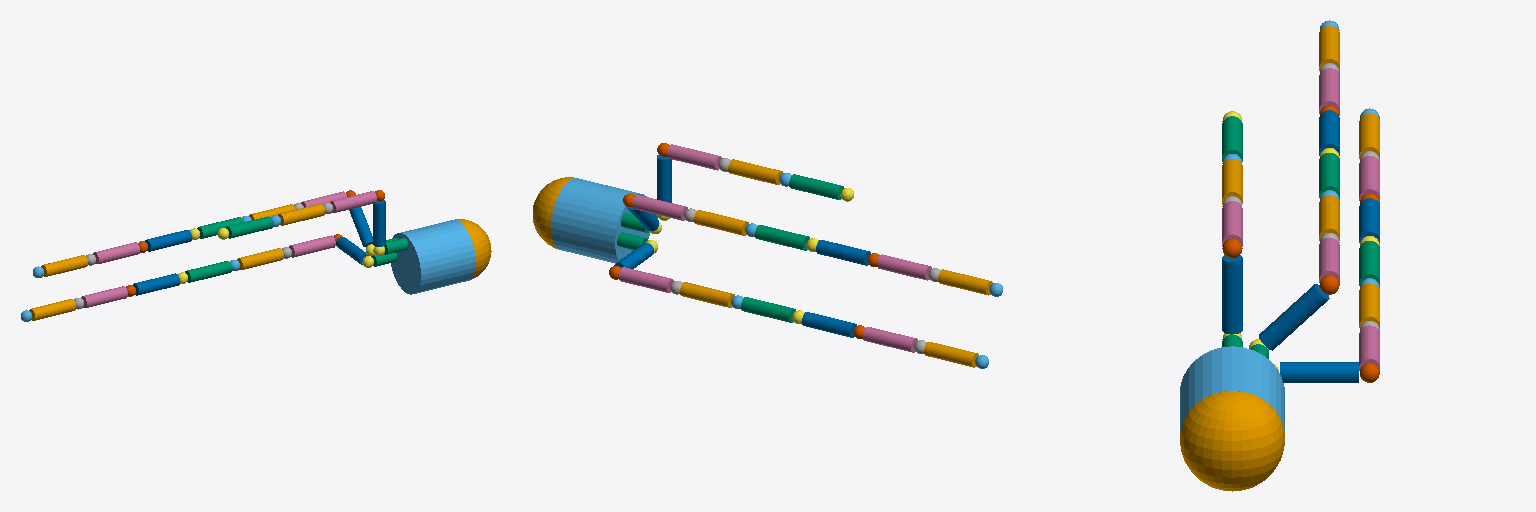
--- Render facts (derived) ---
The picture shows the robot from 3 angles, left to right: view 1: azimuth 30°, elevation 25°; view 2: azimuth 150°, elevation 25°; view 3: azimuth 270°, elevation 25°; orthographic projection.
Model sentinel/octopus_3_arms_3_segments with 44 links and 43 joints (15 revolute, 28 fixed), rooted at eye, posed all joints at 0.
Visible links, largest first — view 1: head, eye, branch_20_cylinder, branch_04_cylinder, branch_14_cylinder, branch_15_cylinder, branch_23_cylinder, branch_02_cylinder, branch_06_cylinder, branch_22_cylinder, branch_01_cylinder, branch_03_cylinder (+3 smaller); view 2: head, eye, branch_23_cylinder, branch_03_cylinder, branch_12_cylinder, branch_13_cylinder, branch_15_cylinder, branch_16_cylinder, branch_04_cylinder, branch_05_cylinder, branch_14_cylinder, branch_06_cylinder (+6 smaller); view 3: eye, head, branch_10_cylinder, branch_00_cylinder, branch_20_cylinder, branch_12_cylinder, branch_02_cylinder, branch_13_cylinder, branch_14_cylinder, branch_04_cylinder, branch_15_cylinder, branch_21_cylinder (+8 smaller).
Link boxes in pixels (x1,y1,x2,y2): head: (391,220,475,294); eye: (455,219,491,280); branch_20_cylinder: (373,200,385,246); branch_04_cylinder: (133,273,179,295); branch_14_cylinder: (145,230,191,251); branch_15_cylinder: (93,242,139,263); branch_23_cylinder: (226,216,272,238); branch_02_cylinder: (237,248,283,269); branch_06_cylinder: (29,299,75,320); branch_22_cylinder: (278,204,324,225); branch_01_cylinder: (289,235,335,257); branch_03_cylinder: (185,261,231,282); head: (551,178,649,263); eye: (533,177,573,249); branch_23_cylinder: (789,174,843,199); branch_03_cylinder: (741,297,795,322); branch_12_cylinder: (694,210,748,235); branch_13_cylinder: (755,225,809,250); branch_15_cylinder: (877,254,931,280); branch_16_cylinder: (938,269,993,295); branch_04_cylinder: (802,312,856,337); branch_05_cylinder: (863,327,917,352); branch_14_cylinder: (816,240,870,265); branch_06_cylinder: (924,342,978,367); eye: (1180,391,1284,491); head: (1180,346,1284,431); branch_10_cylinder: (1259,284,1329,350); branch_00_cylinder: (1280,362,1358,382); branch_20_cylinder: (1222,255,1242,333); branch_12_cylinder: (1319,195,1339,240); branch_02_cylinder: (1359,283,1379,327); branch_13_cylinder: (1319,153,1339,198); branch_14_cylinder: (1319,110,1339,155); branch_04_cylinder: (1359,198,1379,242); branch_15_cylinder: (1319,68,1339,113); branch_21_cylinder: (1222,201,1242,246).
Size in the robot's own frame: 1.55 by 0.38 by 0.3801 metres.
Geometry: primitives only (box / cylinder / sphere), no mesh files.

robot.urdf — sentinel/octopus_3_arms_3_segments:
<?xml version="1.0"?>
<robot name="sentinel/octopus_3_arms_3_segments">
<link name="eye">
  <inertial>
   <mass value="1"/>
   <inertia ixx="0.004000000000000001" ixy="0" ixz="0" iyy="0.004000000000000001" iyz="0" izz="0.004000000000000001"/>
  </inertial>
  <collision>
    <origin rpy="0 0 0" xyz="0 0 0"/>
    <geometry>
      <sphere radius="0.1"/>
    </geometry>
  </collision>
  <visual>
    <origin rpy="0 0 0" xyz="0 0 0"/>
    <geometry>
      <sphere radius="0.1"/>
    </geometry>
  </visual>
</link>

 <link name="head">
  <inertial>
    <mass value="1"/>
    <inertia ixx="0.0058333333333333345" ixy="0" ixz="0" iyy="0.0058333333333333345" iyz="0" izz="0.0025000000000000005"/>
  </inertial>
  <visual>
    <origin rpy="0 1.57 0" xyz="-0.1 0 0"/>
    <geometry>
      <cylinder length="0.2" radius="0.1"/>
    </geometry>
  </visual>
  <collision>
    <origin rpy="0 1.57 0" xyz="-0.1 0 0"/>
    <geometry>
      <cylinder length="0.2" radius="0.1"/>
    </geometry>
  </collision>
 </link>

<joint name="joint_fixed_eye_head" type="fixed">
  <origin rpy="0 0 0" xyz="0 0 0"/>
  <parent link="eye"/>
  <child link="head"/>
</joint>

<!--############################################################################
branch_00
##############################################################################-->
 <link name="branch_00_cylinder_stub">
  <inertial>
    <mass value="1"/>
    <inertia ixx="0.0005687499999999999" ixy="0" ixz="0" iyy="0.0005687499999999999" iyz="0" izz="0.0001"/>
  </inertial>
  <visual>
    <origin rpy="0 1.57 0" xyz="-0.0375 0 0"/>
    <geometry>
      <cylinder length="0.075" radius="0.02"/>
    </geometry>
  </visual>
  <collision>
    <origin rpy="0 1.57 0" xyz="-0.0375 0 0"/>
    <geometry>
      <cylinder length="0.075" radius="0.02"/>
    </geometry>
  </collision>
 </link>

<joint name="joint_fixed_head_branch_00_cylinder_stub" type="fixed">
  <origin rpy="0 0 0" xyz="-0.2 0.06999999999999999 0.0"/>
  <parent link="head"/>
  <child link="branch_00_cylinder_stub"/>
</joint>

<link name="branch_00_sphere_stub">
  <inertial>
   <mass value="1"/>
   <inertia ixx="0.00014439999999999999" ixy="0" ixz="0" iyy="0.00014439999999999999" iyz="0" izz="0.00014439999999999999"/>
  </inertial>
  <collision>
    <origin rpy="0 0 0" xyz="-0.095 0 0"/>
    <geometry>
      <sphere radius="0.019"/>
    </geometry>
  </collision>
  <visual>
    <origin rpy="0 0 0" xyz="-0.095 0 0"/>
    <geometry>
      <sphere radius="0.019"/>
    </geometry>
  </visual>
</link>

<joint name="joint_fixed_branch_00_cylinder_stub_branch_00_sphere_stub" type="fixed">
  <origin rpy="0 0 0" xyz="0 0 0"/>
  <parent link="branch_00_cylinder_stub"/>
  <child link="branch_00_sphere_stub"/>
</joint>

 <link name="branch_00_cylinder">
  <inertial>
    <mass value="1"/>
    <inertia ixx="0.0019749999999999998" ixy="0" ixz="0" iyy="0.0019749999999999998" iyz="0" izz="0.0001"/>
  </inertial>
  <visual>
    <origin rpy="0 1.5707963267948966 1.57" xyz="-0.095 0.095 0.0"/>
    <geometry>
      <cylinder length="0.15" radius="0.02"/>
    </geometry>
  </visual>
  <collision>
    <origin rpy="0 1.5707963267948966 1.57" xyz="-0.095 0.095 0.0"/>
    <geometry>
      <cylinder length="0.15" radius="0.02"/>
    </geometry>
  </collision>
 </link>

<joint name="joint_fixed_branch_00_sphere_stub_branch_00_cylinder" type="fixed">
  <origin rpy="0 0 0" xyz="0 0 0"/>
  <parent link="branch_00_sphere_stub"/>
  <child link="branch_00_cylinder"/>
</joint>

<link name="branch_00">
  <inertial>
   <mass value="1"/>
   <inertia ixx="0.00014439999999999999" ixy="0" ixz="0" iyy="0.00014439999999999999" iyz="0" izz="0.00014439999999999999"/>
  </inertial>
  <collision>
    <origin rpy="0 0 0" xyz="0 0 0"/>
    <geometry>
      <sphere radius="0.019"/>
    </geometry>
  </collision>
  <visual>
    <origin rpy="0 0 0" xyz="0 0 0"/>
    <geometry>
      <sphere radius="0.019"/>
    </geometry>
  </visual>
</link>

<joint name="joint_fixed_branch_00_cylinder_branch_00" type="fixed">
  <origin rpy="0 0 0" xyz="-0.095 0.19 0.0"/>
  <parent link="branch_00_cylinder"/>
  <child link="branch_00"/>
</joint>

<!--############################################################################
branch_01
##############################################################################-->
 <link name="branch_01_cylinder">
  <inertial>
    <mass value="1"/>
    <inertia ixx="0.0019749999999999998" ixy="0" ixz="0" iyy="0.0019749999999999998" iyz="0" izz="0.0001"/>
  </inertial>
  <visual>
    <origin rpy="0 1.57 0" xyz="-0.095 0 0"/>
    <geometry>
      <cylinder length="0.15" radius="0.02"/>
    </geometry>
  </visual>
  <collision>
    <origin rpy="0 1.57 0" xyz="-0.095 0 0"/>
    <geometry>
      <cylinder length="0.15" radius="0.02"/>
    </geometry>
  </collision>
 </link>

<joint name="joint_revolute_branch_00_branch_01_cylinder_Z" type="revolute">
  <origin rpy="0 0 0" xyz="0 0 0"/>
  <parent link="branch_00"/>
  <child link="branch_01_cylinder"/>
  <axis xyz="0 0.0 -1.0"/>
  <dynamics damping="0.01" friction="0.5"/>
  <limit lower="-1.5707963267948966" upper="1.5707963267948966" effort="0.01" velocity="100"/>
</joint>

<link name="branch_01">
  <inertial>
   <mass value="1"/>
   <inertia ixx="0.00014439999999999999" ixy="0" ixz="0" iyy="0.00014439999999999999" iyz="0" izz="0.00014439999999999999"/>
  </inertial>
  <collision>
    <origin rpy="0 0 0" xyz="0 0 0"/>
    <geometry>
      <sphere radius="0.019"/>
    </geometry>
  </collision>
  <visual>
    <origin rpy="0 0 0" xyz="0 0 0"/>
    <geometry>
      <sphere radius="0.019"/>
    </geometry>
  </visual>
</link>

<joint name="joint_fixed_branch_01_cylinder_branch_01" type="fixed">
  <origin rpy="0 0 0" xyz="-0.19 0 0"/>
  <parent link="branch_01_cylinder"/>
  <child link="branch_01"/>
</joint>

<!--############################################################################
branch_02
##############################################################################-->
 <link name="branch_02_cylinder">
  <inertial>
    <mass value="1"/>
    <inertia ixx="0.0019749999999999998" ixy="0" ixz="0" iyy="0.0019749999999999998" iyz="0" izz="0.0001"/>
  </inertial>
  <visual>
    <origin rpy="0 1.57 0" xyz="-0.095 0 0"/>
    <geometry>
      <cylinder length="0.15" radius="0.02"/>
    </geometry>
  </visual>
  <collision>
    <origin rpy="0 1.57 0" xyz="-0.095 0 0"/>
    <geometry>
      <cylinder length="0.15" radius="0.02"/>
    </geometry>
  </collision>
 </link>

<joint name="joint_revolute_branch_01_branch_02_cylinder_Z" type="revolute">
  <origin rpy="0 0 0" xyz="0 0 0"/>
  <parent link="branch_01"/>
  <child link="branch_02_cylinder"/>
  <axis xyz="0 0.0 -1.0"/>
  <dynamics damping="0.01" friction="0.5"/>
  <limit lower="-1.5707963267948966" upper="1.5707963267948966" effort="0.01" velocity="100"/>
</joint>

<link name="branch_02">
  <inertial>
   <mass value="1"/>
   <inertia ixx="0.00014439999999999999" ixy="0" ixz="0" iyy="0.00014439999999999999" iyz="0" izz="0.00014439999999999999"/>
  </inertial>
  <collision>
    <origin rpy="0 0 0" xyz="0 0 0"/>
    <geometry>
      <sphere radius="0.019"/>
    </geometry>
  </collision>
  <visual>
    <origin rpy="0 0 0" xyz="0 0 0"/>
    <geometry>
      <sphere radius="0.019"/>
    </geometry>
  </visual>
</link>

<joint name="joint_fixed_branch_02_cylinder_branch_02" type="fixed">
  <origin rpy="0 0 0" xyz="-0.19 0 0"/>
  <parent link="branch_02_cylinder"/>
  <child link="branch_02"/>
</joint>

<!--############################################################################
branch_03
##############################################################################-->
 <link name="branch_03_cylinder">
  <inertial>
    <mass value="1"/>
    <inertia ixx="0.0019749999999999998" ixy="0" ixz="0" iyy="0.0019749999999999998" iyz="0" izz="0.0001"/>
  </inertial>
  <visual>
    <origin rpy="0 1.57 0" xyz="-0.095 0 0"/>
    <geometry>
      <cylinder length="0.15" radius="0.02"/>
    </geometry>
  </visual>
  <collision>
    <origin rpy="0 1.57 0" xyz="-0.095 0 0"/>
    <geometry>
      <cylinder length="0.15" radius="0.02"/>
    </geometry>
  </collision>
 </link>

<joint name="joint_revolute_branch_02_branch_03_cylinder_Z" type="revolute">
  <origin rpy="0 0 0" xyz="0 0 0"/>
  <parent link="branch_02"/>
  <child link="branch_03_cylinder"/>
  <axis xyz="0 0.0 -1.0"/>
  <dynamics damping="0.01" friction="0.5"/>
  <limit lower="-1.5707963267948966" upper="1.5707963267948966" effort="0.01" velocity="100"/>
</joint>

<link name="branch_03">
  <inertial>
   <mass value="1"/>
   <inertia ixx="0.00014439999999999999" ixy="0" ixz="0" iyy="0.00014439999999999999" iyz="0" izz="0.00014439999999999999"/>
  </inertial>
  <collision>
    <origin rpy="0 0 0" xyz="0 0 0"/>
    <geometry>
      <sphere radius="0.019"/>
    </geometry>
  </collision>
  <visual>
    <origin rpy="0 0 0" xyz="0 0 0"/>
    <geometry>
      <sphere radius="0.019"/>
    </geometry>
  </visual>
</link>

<joint name="joint_fixed_branch_03_cylinder_branch_03" type="fixed">
  <origin rpy="0 0 0" xyz="-0.19 0 0"/>
  <parent link="branch_03_cylinder"/>
  <child link="branch_03"/>
</joint>

<!--############################################################################
branch_04
##############################################################################-->
 <link name="branch_04_cylinder">
  <inertial>
    <mass value="1"/>
    <inertia ixx="0.0019749999999999998" ixy="0" ixz="0" iyy="0.0019749999999999998" iyz="0" izz="0.0001"/>
  </inertial>
  <visual>
    <origin rpy="0 1.57 0" xyz="-0.095 0 0"/>
    <geometry>
      <cylinder length="0.15" radius="0.02"/>
    </geometry>
  </visual>
  <collision>
    <origin rpy="0 1.57 0" xyz="-0.095 0 0"/>
    <geometry>
      <cylinder length="0.15" radius="0.02"/>
    </geometry>
  </collision>
 </link>

<joint name="joint_revolute_branch_03_branch_04_cylinder_Z" type="revolute">
  <origin rpy="0 0 0" xyz="0 0 0"/>
  <parent link="branch_03"/>
  <child link="branch_04_cylinder"/>
  <axis xyz="0 0.0 -1.0"/>
  <dynamics damping="0.01" friction="0.5"/>
  <limit lower="-1.5707963267948966" upper="1.5707963267948966" effort="0.01" velocity="100"/>
</joint>

<link name="branch_04">
  <inertial>
   <mass value="1"/>
   <inertia ixx="0.00014439999999999999" ixy="0" ixz="0" iyy="0.00014439999999999999" iyz="0" izz="0.00014439999999999999"/>
  </inertial>
  <collision>
    <origin rpy="0 0 0" xyz="0 0 0"/>
    <geometry>
      <sphere radius="0.019"/>
    </geometry>
  </collision>
  <visual>
    <origin rpy="0 0 0" xyz="0 0 0"/>
    <geometry>
      <sphere radius="0.019"/>
    </geometry>
  </visual>
</link>

<joint name="joint_fixed_branch_04_cylinder_branch_04" type="fixed">
  <origin rpy="0 0 0" xyz="-0.19 0 0"/>
  <parent link="branch_04_cylinder"/>
  <child link="branch_04"/>
</joint>

<!--############################################################################
branch_05
##############################################################################-->
 <link name="branch_05_cylinder">
  <inertial>
    <mass value="1"/>
    <inertia ixx="0.0019749999999999998" ixy="0" ixz="0" iyy="0.0019749999999999998" iyz="0" izz="0.0001"/>
  </inertial>
  <visual>
    <origin rpy="0 1.57 0" xyz="-0.095 0 0"/>
    <geometry>
      <cylinder length="0.15" radius="0.02"/>
    </geometry>
  </visual>
  <collision>
    <origin rpy="0 1.57 0" xyz="-0.095 0 0"/>
    <geometry>
      <cylinder length="0.15" radius="0.02"/>
    </geometry>
  </collision>
 </link>

<joint name="joint_revolute_branch_04_branch_05_cylinder_Z" type="revolute">
  <origin rpy="0 0 0" xyz="0 0 0"/>
  <parent link="branch_04"/>
  <child link="branch_05_cylinder"/>
  <axis xyz="0 0.0 -1.0"/>
  <dynamics damping="0.01" friction="0.5"/>
  <limit lower="-1.5707963267948966" upper="1.5707963267948966" effort="0.01" velocity="100"/>
</joint>

<link name="branch_05">
  <inertial>
   <mass value="1"/>
   <inertia ixx="0.00014439999999999999" ixy="0" ixz="0" iyy="0.00014439999999999999" iyz="0" izz="0.00014439999999999999"/>
  </inertial>
  <collision>
    <origin rpy="0 0 0" xyz="0 0 0"/>
    <geometry>
      <sphere radius="0.019"/>
    </geometry>
  </collision>
  <visual>
    <origin rpy="0 0 0" xyz="0 0 0"/>
    <geometry>
      <sphere radius="0.019"/>
    </geometry>
  </visual>
</link>

<joint name="joint_fixed_branch_05_cylinder_branch_05" type="fixed">
  <origin rpy="0 0 0" xyz="-0.19 0 0"/>
  <parent link="branch_05_cylinder"/>
  <child link="branch_05"/>
</joint>

<!--############################################################################
branch_06
##############################################################################-->
 <link name="branch_06_cylinder">
  <inertial>
    <mass value="1"/>
    <inertia ixx="0.0019749999999999998" ixy="0" ixz="0" iyy="0.0019749999999999998" iyz="0" izz="0.0001"/>
  </inertial>
  <visual>
    <origin rpy="0 1.57 0" xyz="-0.095 0 0"/>
    <geometry>
      <cylinder length="0.15" radius="0.02"/>
    </geometry>
  </visual>
  <collision>
    <origin rpy="0 1.57 0" xyz="-0.095 0 0"/>
    <geometry>
      <cylinder length="0.15" radius="0.02"/>
    </geometry>
  </collision>
 </link>

<joint name="joint_revolute_branch_05_branch_06_cylinder_Z" type="revolute">
  <origin rpy="0 0 0" xyz="0 0 0"/>
  <parent link="branch_05"/>
  <child link="branch_06_cylinder"/>
  <axis xyz="0 0.0 -1.0"/>
  <dynamics damping="0.01" friction="0.5"/>
  <limit lower="-1.5707963267948966" upper="1.5707963267948966" effort="0.01" velocity="100"/>
</joint>

<link name="branch_06">
  <inertial>
   <mass value="1"/>
   <inertia ixx="0.00014439999999999999" ixy="0" ixz="0" iyy="0.00014439999999999999" iyz="0" izz="0.00014439999999999999"/>
  </inertial>
  <collision>
    <origin rpy="0 0 0" xyz="0 0 0"/>
    <geometry>
      <sphere radius="0.019"/>
    </geometry>
  </collision>
  <visual>
    <origin rpy="0 0 0" xyz="0 0 0"/>
    <geometry>
      <sphere radius="0.019"/>
    </geometry>
  </visual>
</link>

<joint name="joint_fixed_branch_06_cylinder_branch_06" type="fixed">
  <origin rpy="0 0 0" xyz="-0.19 0 0"/>
  <parent link="branch_06_cylinder"/>
  <child link="branch_06"/>
</joint>

<!--############################################################################
branch_10
##############################################################################-->
 <link name="branch_10_cylinder_stub">
  <inertial>
    <mass value="1"/>
    <inertia ixx="0.0005687499999999999" ixy="0" ixz="0" iyy="0.0005687499999999999" iyz="0" izz="0.0001"/>
  </inertial>
  <visual>
    <origin rpy="0 1.57 0" xyz="-0.0375 0 0"/>
    <geometry>
      <cylinder length="0.075" radius="0.02"/>
    </geometry>
  </visual>
  <collision>
    <origin rpy="0 1.57 0" xyz="-0.0375 0 0"/>
    <geometry>
      <cylinder length="0.075" radius="0.02"/>
    </geometry>
  </collision>
 </link>

<joint name="joint_fixed_head_branch_10_cylinder_stub" type="fixed">
  <origin rpy="0 0 0" xyz="-0.2 0.049497474683058325 0.04949747468305832"/>
  <parent link="head"/>
  <child link="branch_10_cylinder_stub"/>
</joint>

<link name="branch_10_sphere_stub">
  <inertial>
   <mass value="1"/>
   <inertia ixx="0.00014439999999999999" ixy="0" ixz="0" iyy="0.00014439999999999999" iyz="0" izz="0.00014439999999999999"/>
  </inertial>
  <collision>
    <origin rpy="0 0 0" xyz="-0.095 0 0"/>
    <geometry>
      <sphere radius="0.019"/>
    </geometry>
  </collision>
  <visual>
    <origin rpy="0 0 0" xyz="-0.095 0 0"/>
    <geometry>
      <sphere radius="0.019"/>
    </geometry>
  </visual>
</link>

<joint name="joint_fixed_branch_10_cylinder_stub_branch_10_sphere_stub" type="fixed">
  <origin rpy="0 0 0" xyz="0 0 0"/>
  <parent link="branch_10_cylinder_stub"/>
  <child link="branch_10_sphere_stub"/>
</joint>

 <link name="branch_10_cylinder">
  <inertial>
    <mass value="1"/>
    <inertia ixx="0.0019749999999999998" ixy="0" ixz="0" iyy="0.0019749999999999998" iyz="0" izz="0.0001"/>
  </inertial>
  <visual>
    <origin rpy="0 0.7853981633974484 1.57" xyz="-0.095 0.06717514421272201 0.06717514421272201"/>
    <geometry>
      <cylinder length="0.15" radius="0.02"/>
    </geometry>
  </visual>
  <collision>
    <origin rpy="0 0.7853981633974484 1.57" xyz="-0.095 0.06717514421272201 0.06717514421272201"/>
    <geometry>
      <cylinder length="0.15" radius="0.02"/>
    </geometry>
  </collision>
 </link>

<joint name="joint_fixed_branch_10_sphere_stub_branch_10_cylinder" type="fixed">
  <origin rpy="0 0 0" xyz="0 0 0"/>
  <parent link="branch_10_sphere_stub"/>
  <child link="branch_10_cylinder"/>
</joint>

<link name="branch_10">
  <inertial>
   <mass value="1"/>
   <inertia ixx="0.00014439999999999999" ixy="0" ixz="0" iyy="0.00014439999999999999" iyz="0" izz="0.00014439999999999999"/>
  </inertial>
  <collision>
    <origin rpy="0 0 0" xyz="0 0 0"/>
    <geometry>
      <sphere radius="0.019"/>
    </geometry>
  </collision>
  <visual>
    <origin rpy="0 0 0" xyz="0 0 0"/>
    <geometry>
      <sphere radius="0.019"/>
    </geometry>
  </visual>
</link>

<joint name="joint_fixed_branch_10_cylinder_branch_10" type="fixed">
  <origin rpy="0 0 0" xyz="-0.095 0.13435028842544403 0.13435028842544403"/>
  <parent link="branch_10_cylinder"/>
  <child link="branch_10"/>
</joint>

<!--############################################################################
branch_11
##############################################################################-->
 <link name="branch_11_cylinder">
  <inertial>
    <mass value="1"/>
    <inertia ixx="0.0019749999999999998" ixy="0" ixz="0" iyy="0.0019749999999999998" iyz="0" izz="0.0001"/>
  </inertial>
  <visual>
    <origin rpy="0 1.57 0" xyz="-0.095 0 0"/>
    <geometry>
      <cylinder length="0.15" radius="0.02"/>
    </geometry>
  </visual>
  <collision>
    <origin rpy="0 1.57 0" xyz="-0.095 0 0"/>
    <geometry>
      <cylinder length="0.15" radius="0.02"/>
    </geometry>
  </collision>
 </link>

<joint name="joint_revolute_branch_10_branch_11_cylinder_Z" type="revolute">
  <origin rpy="0 0 0" xyz="0 0 0"/>
  <parent link="branch_10"/>
  <child link="branch_11_cylinder"/>
  <axis xyz="0 0.7071067811865475 -0.7071067811865476"/>
  <dynamics damping="0.01" friction="0.5"/>
  <limit lower="-1.5707963267948966" upper="1.5707963267948966" effort="0.01" velocity="100"/>
</joint>

<link name="branch_11">
  <inertial>
   <mass value="1"/>
   <inertia ixx="0.00014439999999999999" ixy="0" ixz="0" iyy="0.00014439999999999999" iyz="0" izz="0.00014439999999999999"/>
  </inertial>
  <collision>
    <origin rpy="0 0 0" xyz="0 0 0"/>
    <geometry>
      <sphere radius="0.019"/>
    </geometry>
  </collision>
  <visual>
    <origin rpy="0 0 0" xyz="0 0 0"/>
    <geometry>
      <sphere radius="0.019"/>
    </geometry>
  </visual>
</link>

<joint name="joint_fixed_branch_11_cylinder_branch_11" type="fixed">
  <origin rpy="0 0 0" xyz="-0.19 0 0"/>
  <parent link="branch_11_cylinder"/>
  <child link="branch_11"/>
</joint>

<!--############################################################################
branch_12
##############################################################################-->
 <link name="branch_12_cylinder">
  <inertial>
    <mass value="1"/>
    <inertia ixx="0.0019749999999999998" ixy="0" ixz="0" iyy="0.0019749999999999998" iyz="0" izz="0.0001"/>
  </inertial>
  <visual>
    <origin rpy="0 1.57 0" xyz="-0.095 0 0"/>
    <geometry>
      <cylinder length="0.15" radius="0.02"/>
    </geometry>
  </visual>
  <collision>
    <origin rpy="0 1.57 0" xyz="-0.095 0 0"/>
    <geometry>
      <cylinder length="0.15" radius="0.02"/>
    </geometry>
  </collision>
 </link>

<joint name="joint_revolute_branch_11_branch_12_cylinder_Z" type="revolute">
  <origin rpy="0 0 0" xyz="0 0 0"/>
  <parent link="branch_11"/>
  <child link="branch_12_cylinder"/>
  <axis xyz="0 0.7071067811865475 -0.7071067811865476"/>
  <dynamics damping="0.01" friction="0.5"/>
  <limit lower="-1.5707963267948966" upper="1.5707963267948966" effort="0.01" velocity="100"/>
</joint>

<link name="branch_12">
  <inertial>
   <mass value="1"/>
   <inertia ixx="0.00014439999999999999" ixy="0" ixz="0" iyy="0.00014439999999999999" iyz="0" izz="0.00014439999999999999"/>
  </inertial>
  <collision>
    <origin rpy="0 0 0" xyz="0 0 0"/>
    <geometry>
      <sphere radius="0.019"/>
    </geometry>
  </collision>
  <visual>
    <origin rpy="0 0 0" xyz="0 0 0"/>
    <geometry>
      <sphere radius="0.019"/>
    </geometry>
  </visual>
</link>

<joint name="joint_fixed_branch_12_cylinder_branch_12" type="fixed">
  <origin rpy="0 0 0" xyz="-0.19 0 0"/>
  <parent link="branch_12_cylinder"/>
  <child link="branch_12"/>
</joint>

<!--############################################################################
branch_13
##############################################################################-->
 <link name="branch_13_cylinder">
  <inertial>
    <mass value="1"/>
    <inertia ixx="0.0019749999999999998" ixy="0" ixz="0" iyy="0.0019749999999999998" iyz="0" izz="0.0001"/>
  </inertial>
  <visual>
    <origin rpy="0 1.57 0" xyz="-0.095 0 0"/>
    <geometry>
      <cylinder length="0.15" radius="0.02"/>
    </geometry>
  </visual>
  <collision>
    <origin rpy="0 1.57 0" xyz="-0.095 0 0"/>
    <geometry>
      <cylinder length="0.15" radius="0.02"/>
    </geometry>
  </collision>
 </link>

<joint name="joint_revolute_branch_12_branch_13_cylinder_Z" type="revolute">
  <origin rpy="0 0 0" xyz="0 0 0"/>
  <parent link="branch_12"/>
  <child link="branch_13_cylinder"/>
  <axis xyz="0 0.7071067811865475 -0.7071067811865476"/>
  <dynamics damping="0.01" friction="0.5"/>
  <limit lower="-1.5707963267948966" upper="1.5707963267948966" effort="0.01" velocity="100"/>
</joint>

<link name="branch_13">
  <inertial>
   <mass value="1"/>
   <inertia ixx="0.00014439999999999999" ixy="0" ixz="0" iyy="0.00014439999999999999" iyz="0" izz="0.00014439999999999999"/>
  </inertial>
  <collision>
    <origin rpy="0 0 0" xyz="0 0 0"/>
    <geometry>
      <sphere radius="0.019"/>
    </geometry>
  </collision>
  <visual>
    <origin rpy="0 0 0" xyz="0 0 0"/>
    <geometry>
      <sphere radius="0.019"/>
    </geometry>
  </visual>
</link>

<joint name="joint_fixed_branch_13_cylinder_branch_13" type="fixed">
  <origin rpy="0 0 0" xyz="-0.19 0 0"/>
  <parent link="branch_13_cylinder"/>
  <child link="branch_13"/>
</joint>

<!--############################################################################
branch_14
##############################################################################-->
 <link name="branch_14_cylinder">
  <inertial>
    <mass value="1"/>
    <inertia ixx="0.0019749999999999998" ixy="0" ixz="0" iyy="0.0019749999999999998" iyz="0" izz="0.0001"/>
  </inertial>
  <visual>
    <origin rpy="0 1.57 0" xyz="-0.095 0 0"/>
    <geometry>
      <cylinder length="0.15" radius="0.02"/>
    </geometry>
  </visual>
  <collision>
    <origin rpy="0 1.57 0" xyz="-0.095 0 0"/>
    <geometry>
      <cylinder length="0.15" radius="0.02"/>
    </geometry>
  </collision>
 </link>

<joint name="joint_revolute_branch_13_branch_14_cylinder_Z" type="revolute">
  <origin rpy="0 0 0" xyz="0 0 0"/>
  <parent link="branch_13"/>
  <child link="branch_14_cylinder"/>
  <axis xyz="0 0.7071067811865475 -0.7071067811865476"/>
  <dynamics damping="0.01" friction="0.5"/>
  <limit lower="-1.5707963267948966" upper="1.5707963267948966" effort="0.01" velocity="100"/>
</joint>

<link name="branch_14">
  <inertial>
   <mass value="1"/>
   <inertia ixx="0.00014439999999999999" ixy="0" ixz="0" iyy="0.00014439999999999999" iyz="0" izz="0.00014439999999999999"/>
  </inertial>
  <collision>
    <origin rpy="0 0 0" xyz="0 0 0"/>
    <geometry>
      <sphere radius="0.019"/>
    </geometry>
  </collision>
  <visual>
    <origin rpy="0 0 0" xyz="0 0 0"/>
    <geometry>
      <sphere radius="0.019"/>
    </geometry>
  </visual>
</link>

<joint name="joint_fixed_branch_14_cylinder_branch_14" type="fixed">
  <origin rpy="0 0 0" xyz="-0.19 0 0"/>
  <parent link="branch_14_cylinder"/>
  <child link="branch_14"/>
</joint>

<!--############################################################################
branch_15
##############################################################################-->
 <link name="branch_15_cylinder">
  <inertial>
    <mass value="1"/>
    <inertia ixx="0.0019749999999999998" ixy="0" ixz="0" iyy="0.0019749999999999998" iyz="0" izz="0.0001"/>
  </inertial>
  <visual>
    <origin rpy="0 1.57 0" xyz="-0.095 0 0"/>
    <geometry>
      <cylinder length="0.15" radius="0.02"/>
    </geometry>
  </visual>
  <collision>
    <origin rpy="0 1.57 0" xyz="-0.095 0 0"/>
    <geometry>
      <cylinder length="0.15" radius="0.02"/>
    </geometry>
  </collision>
 </link>

<joint name="joint_revolute_branch_14_branch_15_cylinder_Z" type="revolute">
  <origin rpy="0 0 0" xyz="0 0 0"/>
  <parent link="branch_14"/>
  <child link="branch_15_cylinder"/>
  <axis xyz="0 0.7071067811865475 -0.7071067811865476"/>
  <dynamics damping="0.01" friction="0.5"/>
  <limit lower="-1.5707963267948966" upper="1.5707963267948966" effort="0.01" velocity="100"/>
</joint>

<link name="branch_15">
  <inertial>
   <mass value="1"/>
   <inertia ixx="0.00014439999999999999" ixy="0" ixz="0" iyy="0.00014439999999999999" iyz="0" izz="0.00014439999999999999"/>
  </inertial>
  <collision>
    <origin rpy="0 0 0" xyz="0 0 0"/>
    <geometry>
      <sphere radius="0.019"/>
    </geometry>
  </collision>
  <visual>
    <origin rpy="0 0 0" xyz="0 0 0"/>
    <geometry>
      <sphere radius="0.019"/>
    </geometry>
  </visual>
</link>

<joint name="joint_fixed_branch_15_cylinder_branch_15" type="fixed">
  <origin rpy="0 0 0" xyz="-0.19 0 0"/>
  <parent link="branch_15_cylinder"/>
  <child link="branch_15"/>
</joint>

<!--############################################################################
branch_16
##############################################################################-->
 <link name="branch_16_cylinder">
  <inertial>
    <mass value="1"/>
    <inertia ixx="0.0019749999999999998" ixy="0" ixz="0" iyy="0.0019749999999999998" iyz="0" izz="0.0001"/>
  </inertial>
  <visual>
    <origin rpy="0 1.57 0" xyz="-0.095 0 0"/>
    <geometry>
      <cylinder length="0.15" radius="0.02"/>
    </geometry>
  </visual>
  <collision>
    <origin rpy="0 1.57 0" xyz="-0.095 0 0"/>
    <geometry>
      <cylinder length="0.15" radius="0.02"/>
    </geometry>
  </collision>
 </link>

<joint name="joint_revolute_branch_15_branch_16_cylinder_Z" type="revolute">
  <origin rpy="0 0 0" xyz="0 0 0"/>
  <parent link="branch_15"/>
  <child link="branch_16_cylinder"/>
  <axis xyz="0 0.7071067811865475 -0.7071067811865476"/>
  <dynamics damping="0.01" friction="0.5"/>
  <limit lower="-1.5707963267948966" upper="1.5707963267948966" effort="0.01" velocity="100"/>
</joint>

<link name="branch_16">
  <inertial>
   <mass value="1"/>
   <inertia ixx="0.00014439999999999999" ixy="0" ixz="0" iyy="0.00014439999999999999" iyz="0" izz="0.00014439999999999999"/>
  </inertial>
  <collision>
    <origin rpy="0 0 0" xyz="0 0 0"/>
    <geometry>
      <sphere radius="0.019"/>
    </geometry>
  </collision>
  <visual>
    <origin rpy="0 0 0" xyz="0 0 0"/>
    <geometry>
      <sphere radius="0.019"/>
    </geometry>
  </visual>
</link>

<joint name="joint_fixed_branch_16_cylinder_branch_16" type="fixed">
  <origin rpy="0 0 0" xyz="-0.19 0 0"/>
  <parent link="branch_16_cylinder"/>
  <child link="branch_16"/>
</joint>

<!--############################################################################
branch_20
##############################################################################-->
 <link name="branch_20_cylinder_stub">
  <inertial>
    <mass value="1"/>
    <inertia ixx="0.0005687499999999999" ixy="0" ixz="0" iyy="0.0005687499999999999" iyz="0" izz="0.0001"/>
  </inertial>
  <visual>
    <origin rpy="0 1.57 0" xyz="-0.0375 0 0"/>
    <geometry>
      <cylinder length="0.075" radius="0.02"/>
    </geometry>
  </visual>
  <collision>
    <origin rpy="0 1.57 0" xyz="-0.0375 0 0"/>
    <geometry>
      <cylinder length="0.075" radius="0.02"/>
    </geometry>
  </collision>
 </link>

<joint name="joint_fixed_head_branch_20_cylinder_stub" type="fixed">
  <origin rpy="0 0 0" xyz="-0.2 4.286263797015736e-18 0.06999999999999999"/>
  <parent link="head"/>
  <child link="branch_20_cylinder_stub"/>
</joint>

<link name="branch_20_sphere_stub">
  <inertial>
   <mass value="1"/>
   <inertia ixx="0.00014439999999999999" ixy="0" ixz="0" iyy="0.00014439999999999999" iyz="0" izz="0.00014439999999999999"/>
  </inertial>
  <collision>
    <origin rpy="0 0 0" xyz="-0.095 0 0"/>
    <geometry>
      <sphere radius="0.019"/>
    </geometry>
  </collision>
  <visual>
    <origin rpy="0 0 0" xyz="-0.095 0 0"/>
    <geometry>
      <sphere radius="0.019"/>
    </geometry>
  </visual>
</link>

<joint name="joint_fixed_branch_20_cylinder_stub_branch_20_sphere_stub" type="fixed">
  <origin rpy="0 0 0" xyz="0 0 0"/>
  <parent link="branch_20_cylinder_stub"/>
  <child link="branch_20_sphere_stub"/>
</joint>

 <link name="branch_20_cylinder">
  <inertial>
    <mass value="1"/>
    <inertia ixx="0.0019749999999999998" ixy="0" ixz="0" iyy="0.0019749999999999998" iyz="0" izz="0.0001"/>
  </inertial>
  <visual>
    <origin rpy="0 6.123233995736766e-17 1.57" xyz="-0.095 5.817072295949928e-18 0.095"/>
    <geometry>
      <cylinder length="0.15" radius="0.02"/>
    </geometry>
  </visual>
  <collision>
    <origin rpy="0 6.123233995736766e-17 1.57" xyz="-0.095 5.817072295949928e-18 0.095"/>
    <geometry>
      <cylinder length="0.15" radius="0.02"/>
    </geometry>
  </collision>
 </link>

<joint name="joint_fixed_branch_20_sphere_stub_branch_20_cylinder" type="fixed">
  <origin rpy="0 0 0" xyz="0 0 0"/>
  <parent link="branch_20_sphere_stub"/>
  <child link="branch_20_cylinder"/>
</joint>

<link name="branch_20">
  <inertial>
   <mass value="1"/>
   <inertia ixx="0.00014439999999999999" ixy="0" ixz="0" iyy="0.00014439999999999999" iyz="0" izz="0.00014439999999999999"/>
  </inertial>
  <collision>
    <origin rpy="0 0 0" xyz="0 0 0"/>
    <geometry>
      <sphere radius="0.019"/>
    </geometry>
  </collision>
  <visual>
    <origin rpy="0 0 0" xyz="0 0 0"/>
    <geometry>
      <sphere radius="0.019"/>
    </geometry>
  </visual>
</link>

<joint name="joint_fixed_branch_20_cylinder_branch_20" type="fixed">
  <origin rpy="0 0 0" xyz="-0.095 1.1634144591899856e-17 0.19"/>
  <parent link="branch_20_cylinder"/>
  <child link="branch_20"/>
</joint>

<!--############################################################################
branch_21
##############################################################################-->
 <link name="branch_21_cylinder">
  <inertial>
    <mass value="1"/>
    <inertia ixx="0.0019749999999999998" ixy="0" ixz="0" iyy="0.0019749999999999998" iyz="0" izz="0.0001"/>
  </inertial>
  <visual>
    <origin rpy="0 1.57 0" xyz="-0.095 0 0"/>
    <geometry>
      <cylinder length="0.15" radius="0.02"/>
    </geometry>
  </visual>
  <collision>
    <origin rpy="0 1.57 0" xyz="-0.095 0 0"/>
    <geometry>
      <cylinder length="0.15" radius="0.02"/>
    </geometry>
  </collision>
 </link>

<joint name="joint_revolute_branch_20_branch_21_cylinder_Z" type="revolute">
  <origin rpy="0 0 0" xyz="0 0 0"/>
  <parent link="branch_20"/>
  <child link="branch_21_cylinder"/>
  <axis xyz="0 1.0 -6.123233995736766e-17"/>
  <dynamics damping="0.01" friction="0.5"/>
  <limit lower="-1.5707963267948966" upper="1.5707963267948966" effort="0.01" velocity="100"/>
</joint>

<link name="branch_21">
  <inertial>
   <mass value="1"/>
   <inertia ixx="0.00014439999999999999" ixy="0" ixz="0" iyy="0.00014439999999999999" iyz="0" izz="0.00014439999999999999"/>
  </inertial>
  <collision>
    <origin rpy="0 0 0" xyz="0 0 0"/>
    <geometry>
      <sphere radius="0.019"/>
    </geometry>
  </collision>
  <visual>
    <origin rpy="0 0 0" xyz="0 0 0"/>
    <geometry>
      <sphere radius="0.019"/>
    </geometry>
  </visual>
</link>

<joint name="joint_fixed_branch_21_cylinder_branch_21" type="fixed">
  <origin rpy="0 0 0" xyz="-0.19 0 0"/>
  <parent link="branch_21_cylinder"/>
  <child link="branch_21"/>
</joint>

<!--############################################################################
branch_22
##############################################################################-->
 <link name="branch_22_cylinder">
  <inertial>
    <mass value="1"/>
    <inertia ixx="0.0019749999999999998" ixy="0" ixz="0" iyy="0.0019749999999999998" iyz="0" izz="0.0001"/>
  </inertial>
  <visual>
    <origin rpy="0 1.57 0" xyz="-0.095 0 0"/>
    <geometry>
      <cylinder length="0.15" radius="0.02"/>
    </geometry>
  </visual>
  <collision>
    <origin rpy="0 1.57 0" xyz="-0.095 0 0"/>
    <geometry>
      <cylinder length="0.15" radius="0.02"/>
    </geometry>
  </collision>
 </link>

<joint name="joint_revolute_branch_21_branch_22_cylinder_Z" type="revolute">
  <origin rpy="0 0 0" xyz="0 0 0"/>
  <parent link="branch_21"/>
  <child link="branch_22_cylinder"/>
  <axis xyz="0 1.0 -6.123233995736766e-17"/>
  <dynamics damping="0.01" friction="0.5"/>
  <limit lower="-1.5707963267948966" upper="1.5707963267948966" effort="0.01" velocity="100"/>
</joint>

<link name="branch_22">
  <inertial>
   <mass value="1"/>
   <inertia ixx="0.00014439999999999999" ixy="0" ixz="0" iyy="0.00014439999999999999" iyz="0" izz="0.00014439999999999999"/>
  </inertial>
  <collision>
    <origin rpy="0 0 0" xyz="0 0 0"/>
    <geometry>
      <sphere radius="0.019"/>
    </geometry>
  </collision>
  <visual>
    <origin rpy="0 0 0" xyz="0 0 0"/>
    <geometry>
      <sphere radius="0.019"/>
    </geometry>
  </visual>
</link>

<joint name="joint_fixed_branch_22_cylinder_branch_22" type="fixed">
  <origin rpy="0 0 0" xyz="-0.19 0 0"/>
  <parent link="branch_22_cylinder"/>
  <child link="branch_22"/>
</joint>

<!--############################################################################
branch_23
##############################################################################-->
 <link name="branch_23_cylinder">
  <inertial>
    <mass value="1"/>
    <inertia ixx="0.0019749999999999998" ixy="0" ixz="0" iyy="0.0019749999999999998" iyz="0" izz="0.0001"/>
  </inertial>
  <visual>
    <origin rpy="0 1.57 0" xyz="-0.095 0 0"/>
    <geometry>
      <cylinder length="0.15" radius="0.02"/>
    </geometry>
  </visual>
  <collision>
    <origin rpy="0 1.57 0" xyz="-0.095 0 0"/>
    <geometry>
      <cylinder length="0.15" radius="0.02"/>
    </geometry>
  </collision>
 </link>

<joint name="joint_revolute_branch_22_branch_23_cylinder_Z" type="revolute">
  <origin rpy="0 0 0" xyz="0 0 0"/>
  <parent link="branch_22"/>
  <child link="branch_23_cylinder"/>
  <axis xyz="0 1.0 -6.123233995736766e-17"/>
  <dynamics damping="0.01" friction="0.5"/>
  <limit lower="-1.5707963267948966" upper="1.5707963267948966" effort="0.01" velocity="100"/>
</joint>

<link name="branch_23">
  <inertial>
   <mass value="1"/>
   <inertia ixx="0.00014439999999999999" ixy="0" ixz="0" iyy="0.00014439999999999999" iyz="0" izz="0.00014439999999999999"/>
  </inertial>
  <collision>
    <origin rpy="0 0 0" xyz="0 0 0"/>
    <geometry>
      <sphere radius="0.019"/>
    </geometry>
  </collision>
  <visual>
    <origin rpy="0 0 0" xyz="0 0 0"/>
    <geometry>
      <sphere radius="0.019"/>
    </geometry>
  </visual>
</link>

<joint name="joint_fixed_branch_23_cylinder_branch_23" type="fixed">
  <origin rpy="0 0 0" xyz="-0.19 0 0"/>
  <parent link="branch_23_cylinder"/>
  <child link="branch_23"/>
</joint>

  <klampt package_root="../../.." default_acc_max="4" >
  </klampt>
</robot>
